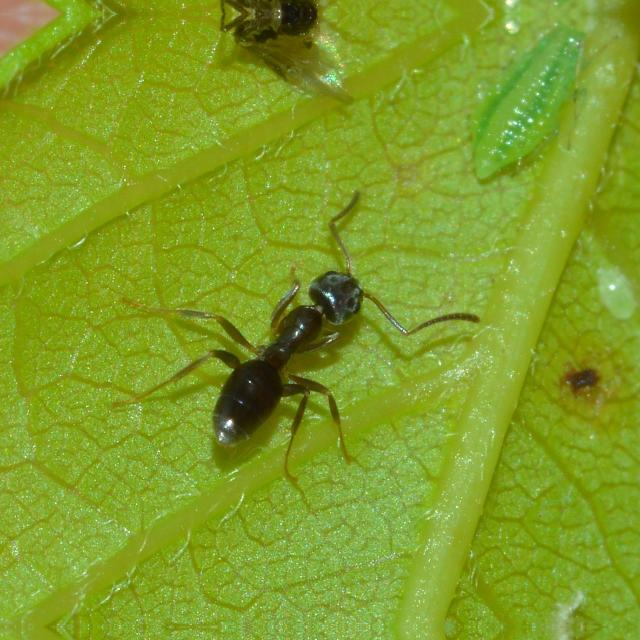Tapinoma: (160, 204, 428, 466)
